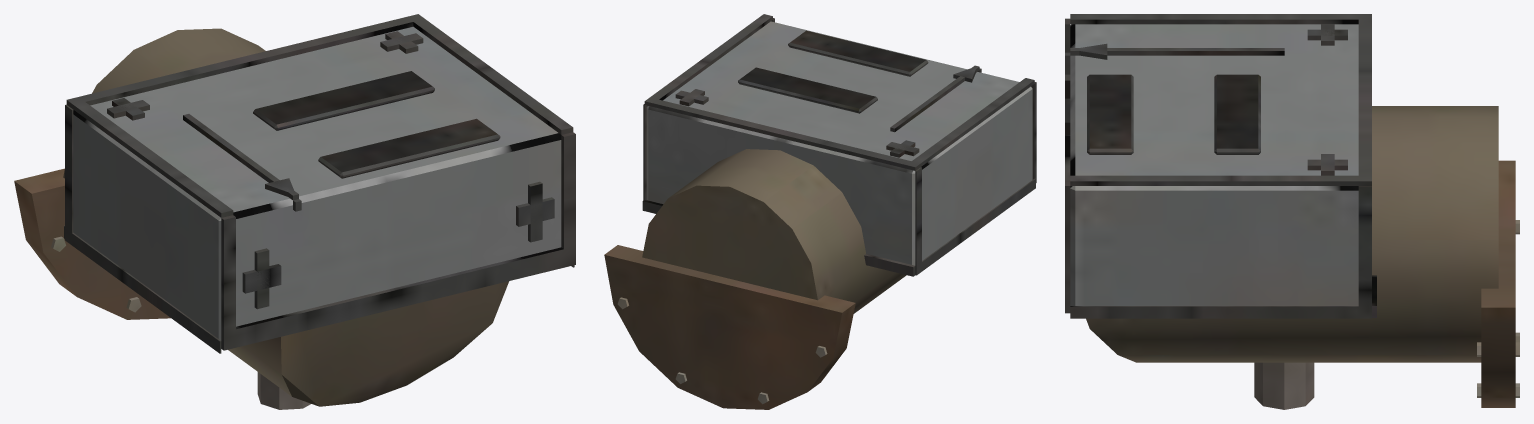
File: one-way-valve-south.glb
3 views of the same model, side by side, from view 1: azimuth 30°, elevation 25°; view 2: azimuth 150°, elevation 25°; view 3: azimuth 270°, elevation 25° (orthographic). The views are drawn at different scales.
Visible parts, largest first — view 1: body; view 2: body; view 3: body.
Boxes of the visible parts, <box> form: body: <box>14,14,575,409</box>; body: <box>604,14,1036,409</box>; body: <box>1065,14,1519,409</box>.
Bounding box in the file's own units: 0.932 × 0.776 × 1.06.
Materials: 1 (1 with a texture image).
